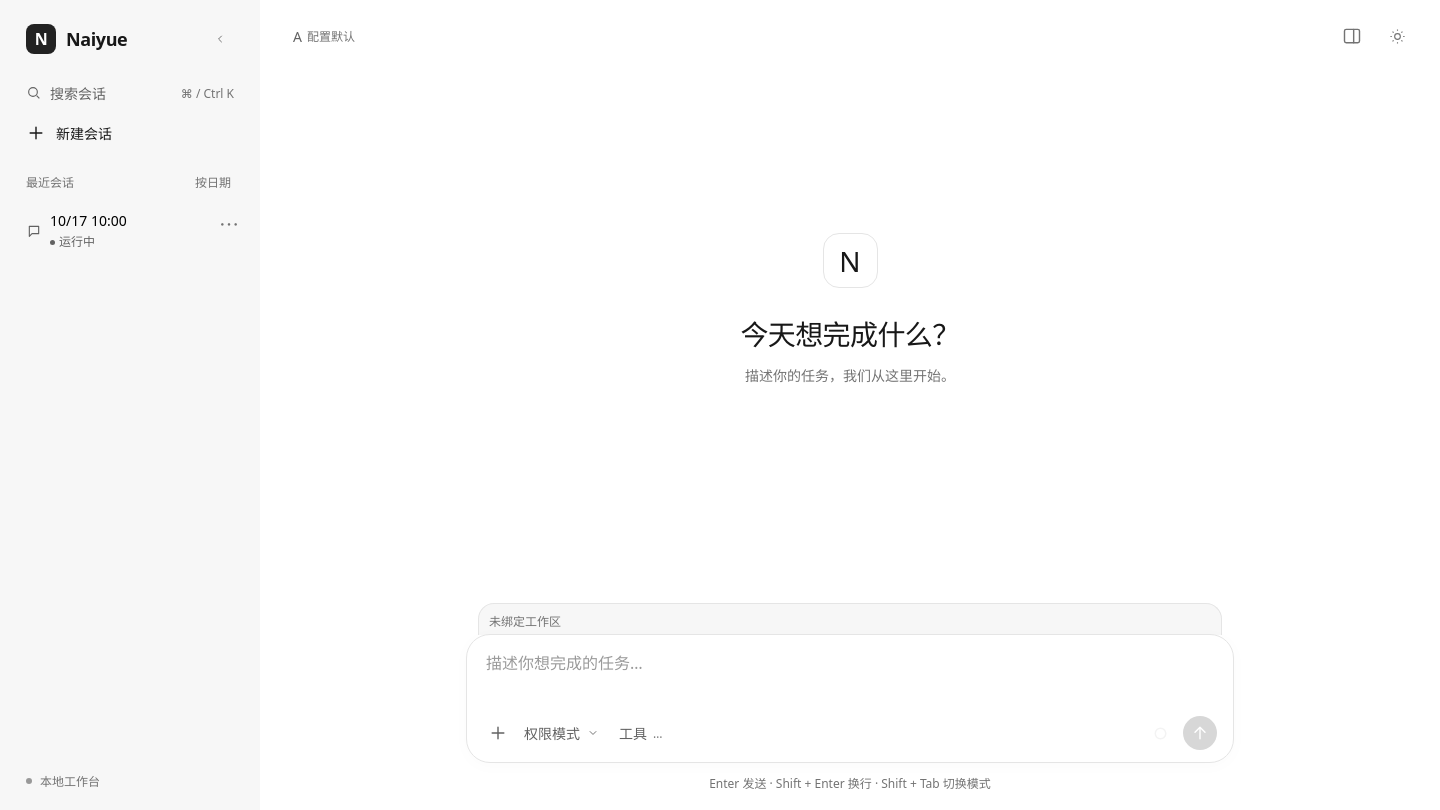
Test case: shows saved facts as read-only, never sends on Enter, and allows a new session
The image size is (1440, 810).
Click the button with aria-label "removed-model": (130, 231) [14,202,246,260]
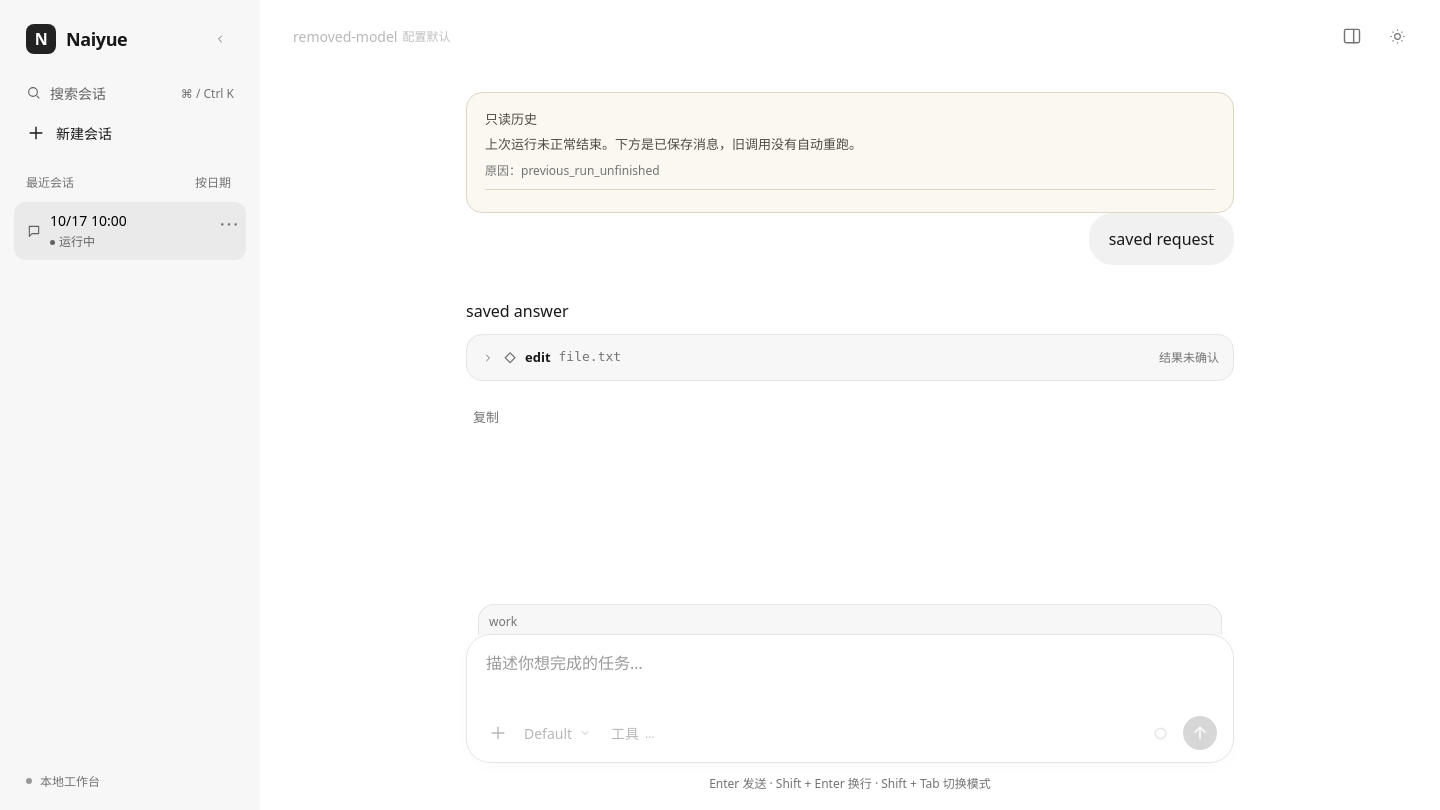
Check: the text "只读历史" is shown, box [485,110,537,128]
Check: the text "saved request" is shown, box [1109,225,1214,253]
Check: the text "saved answer" is shown, box [466,300,568,322]
In the text box named "消息": (850, 676) [483,650,1217,703], type "do not execute"
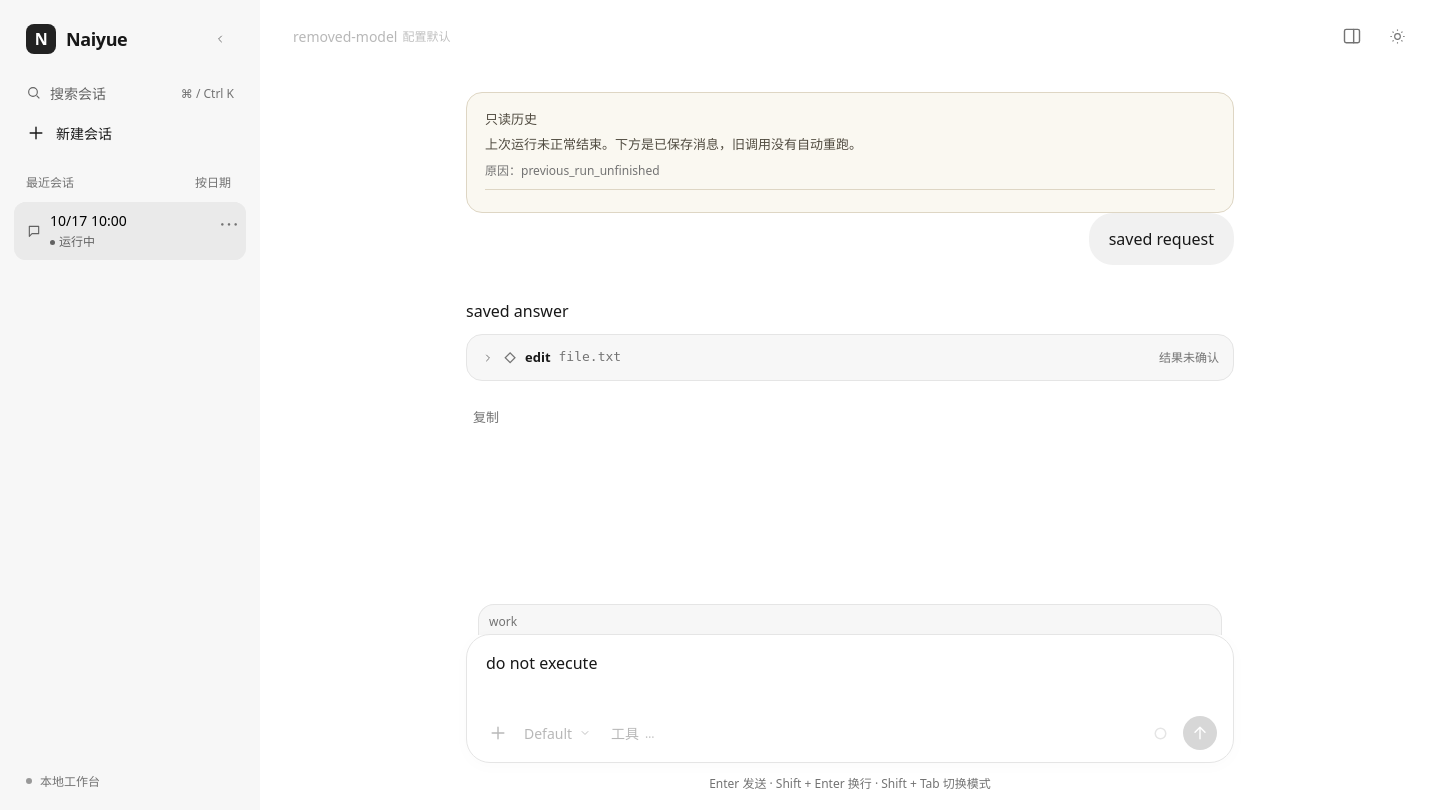
Press Enter in the text box named "消息", box [483,650,1217,703]
Check: the button named "发送消息" is disabled, box [1183,716,1217,750]
Click the button "新建会话": (130, 133) [14,114,246,152]
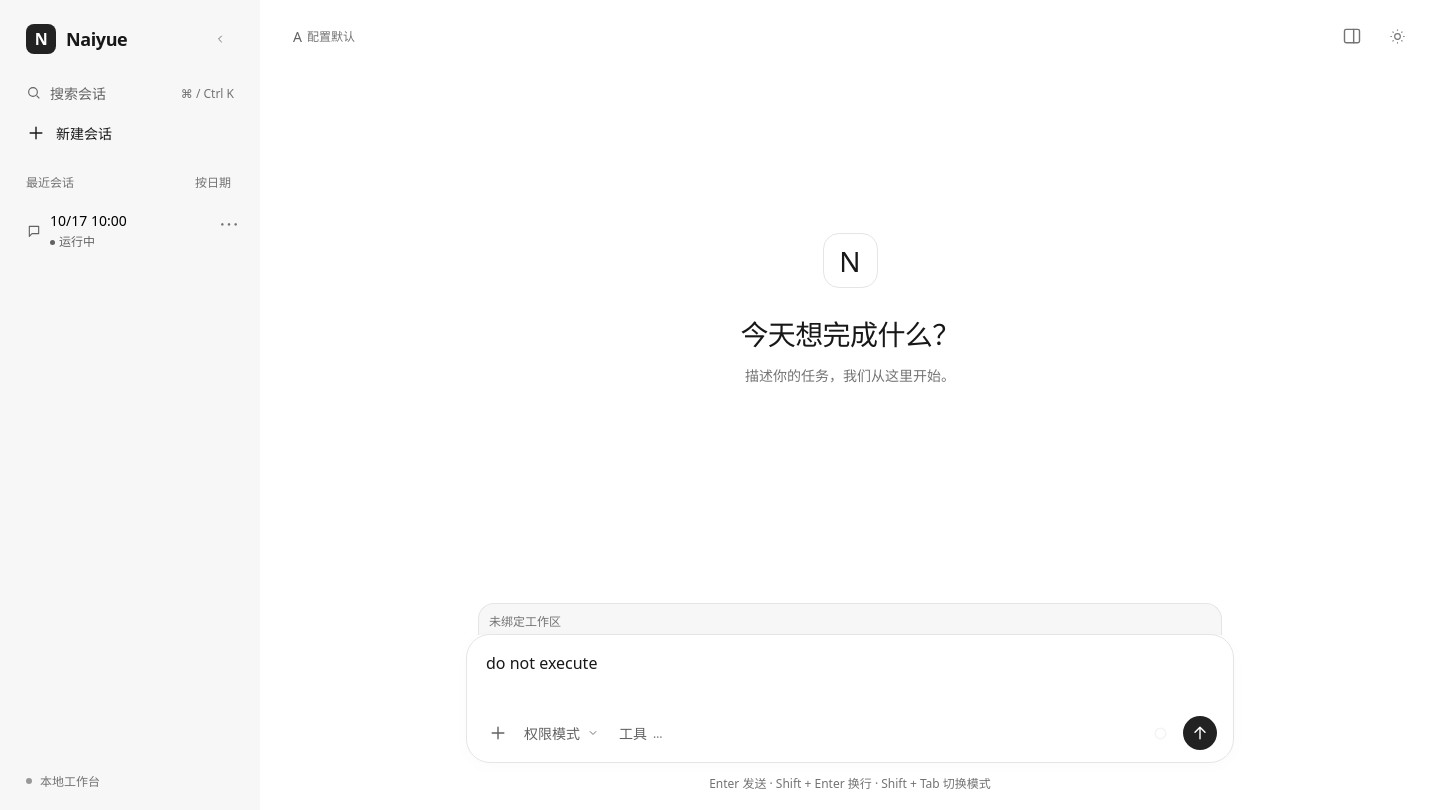
Check: the text "saved request" is gone
Check: the button named "发送消息" is enabled, box [1183,716,1217,750]
